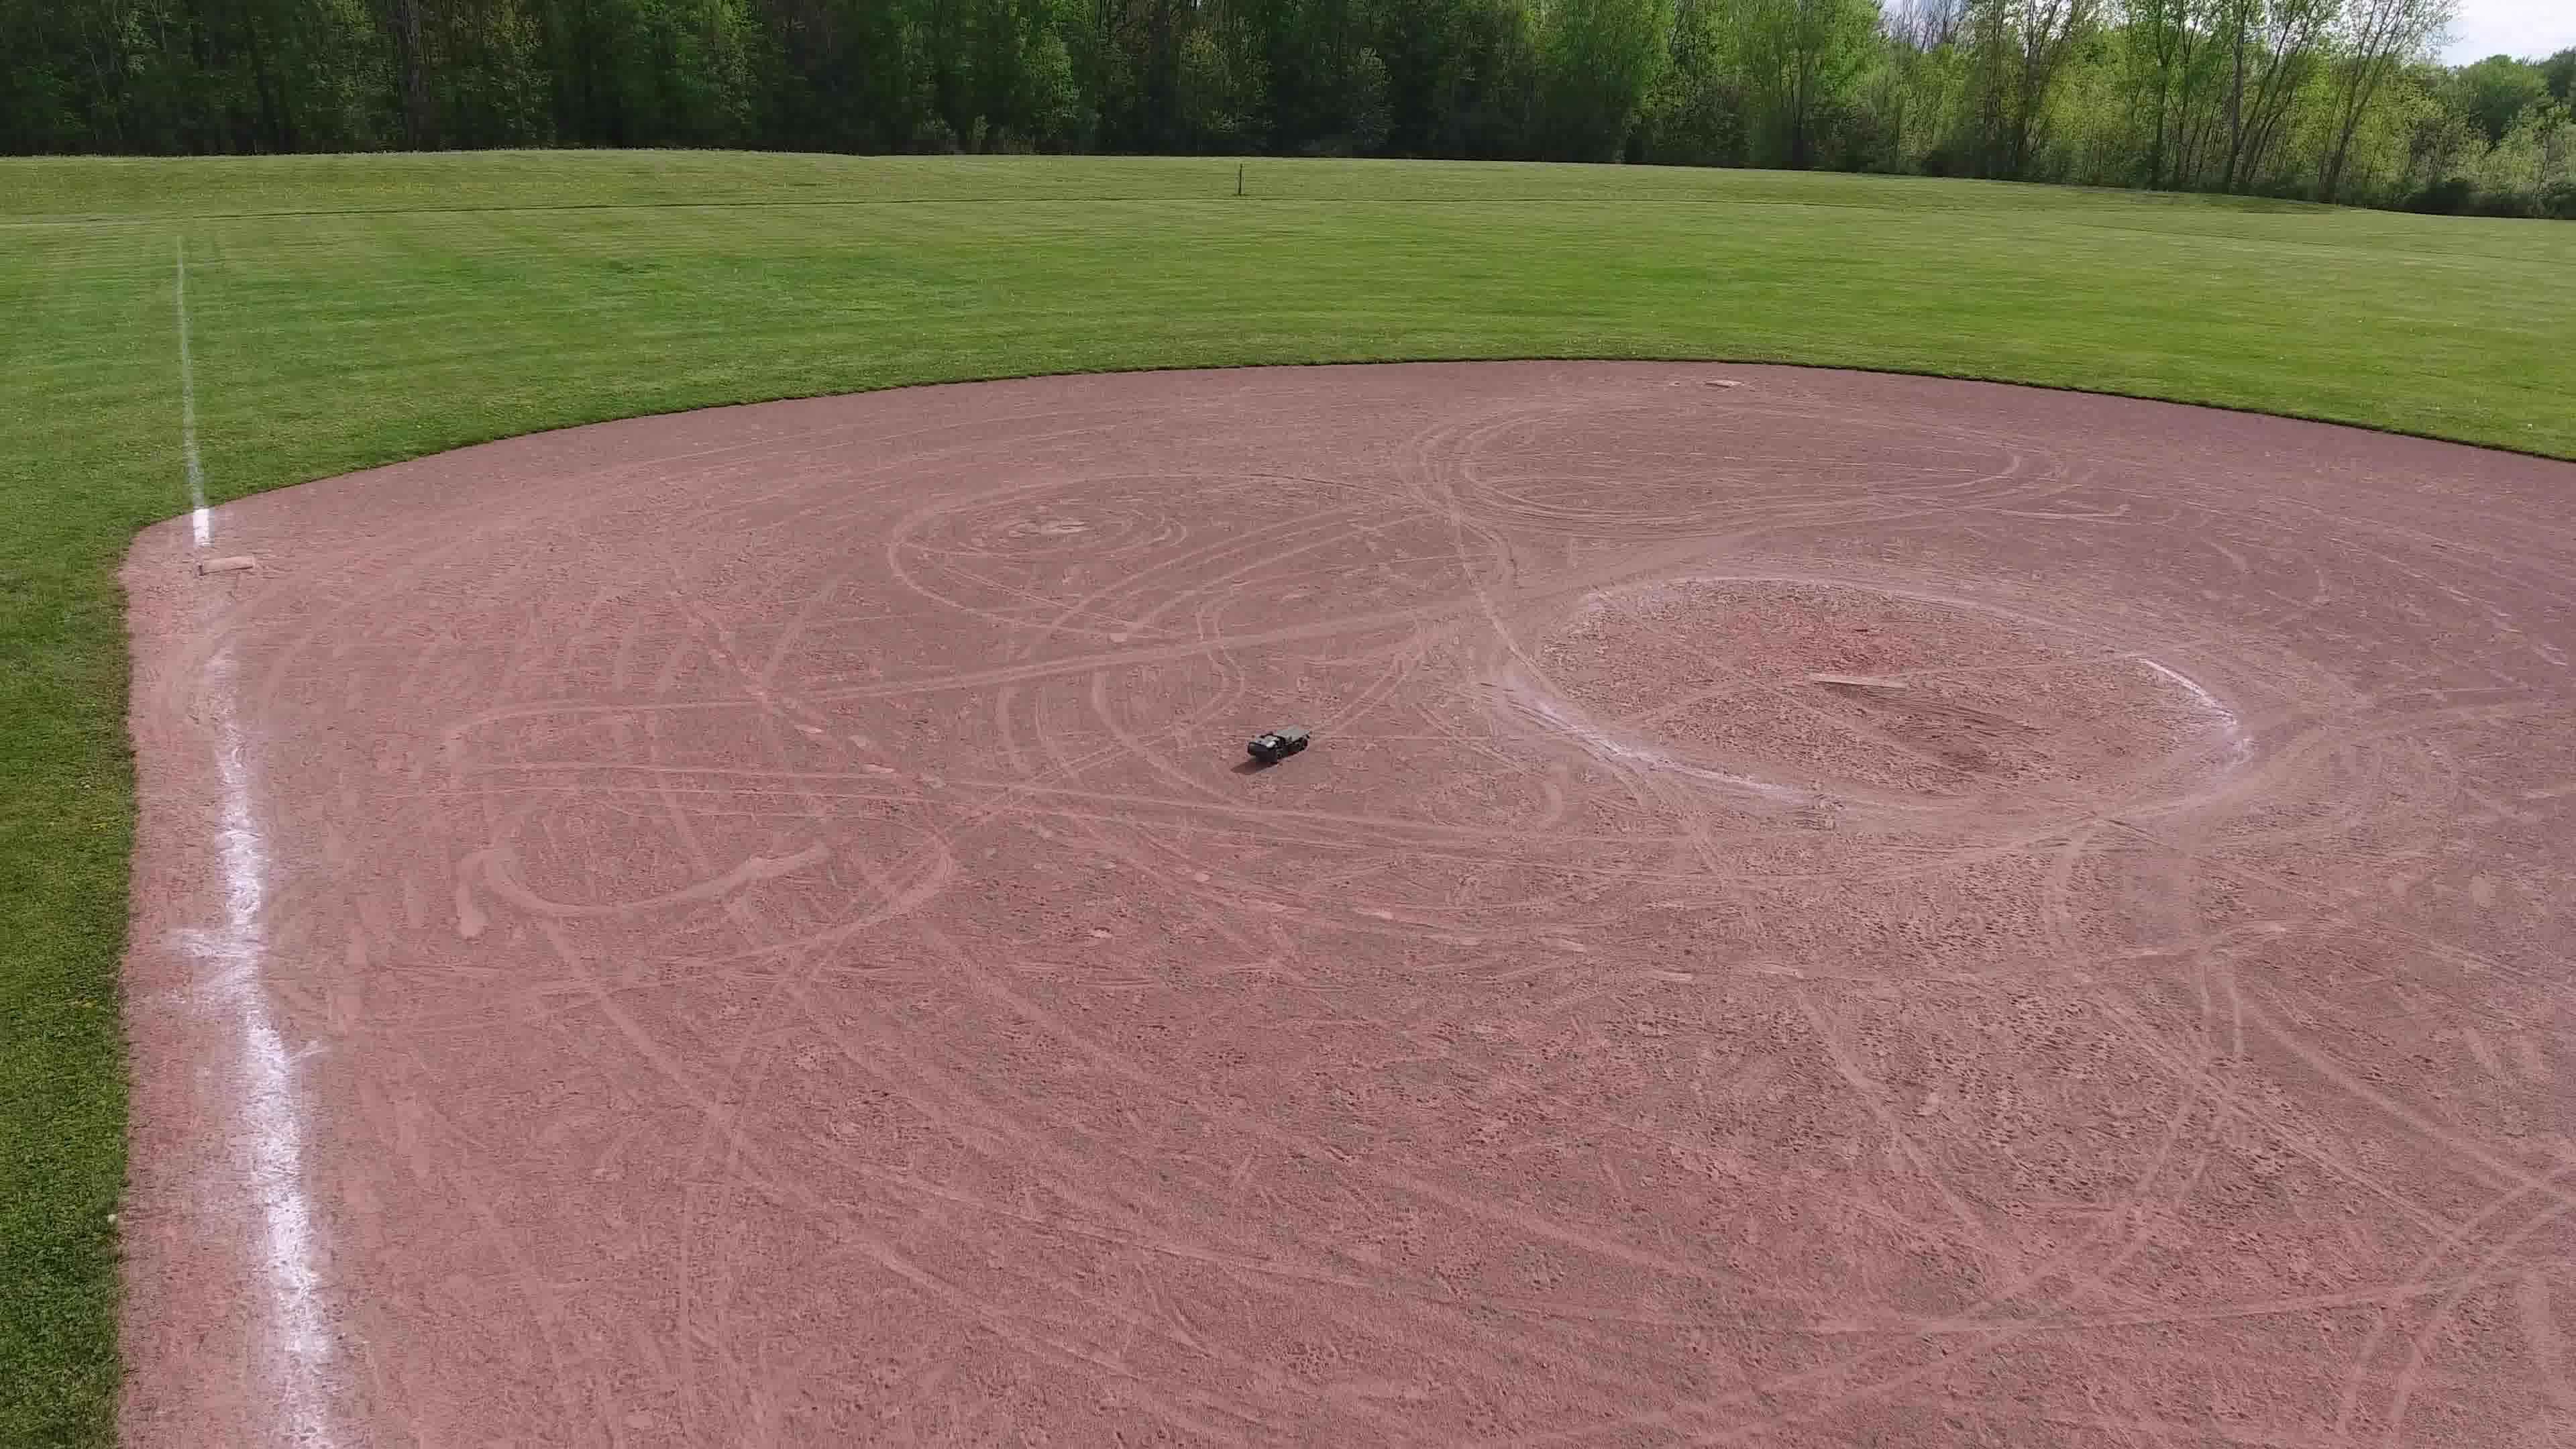transporter9: (1246, 718, 1315, 764)
